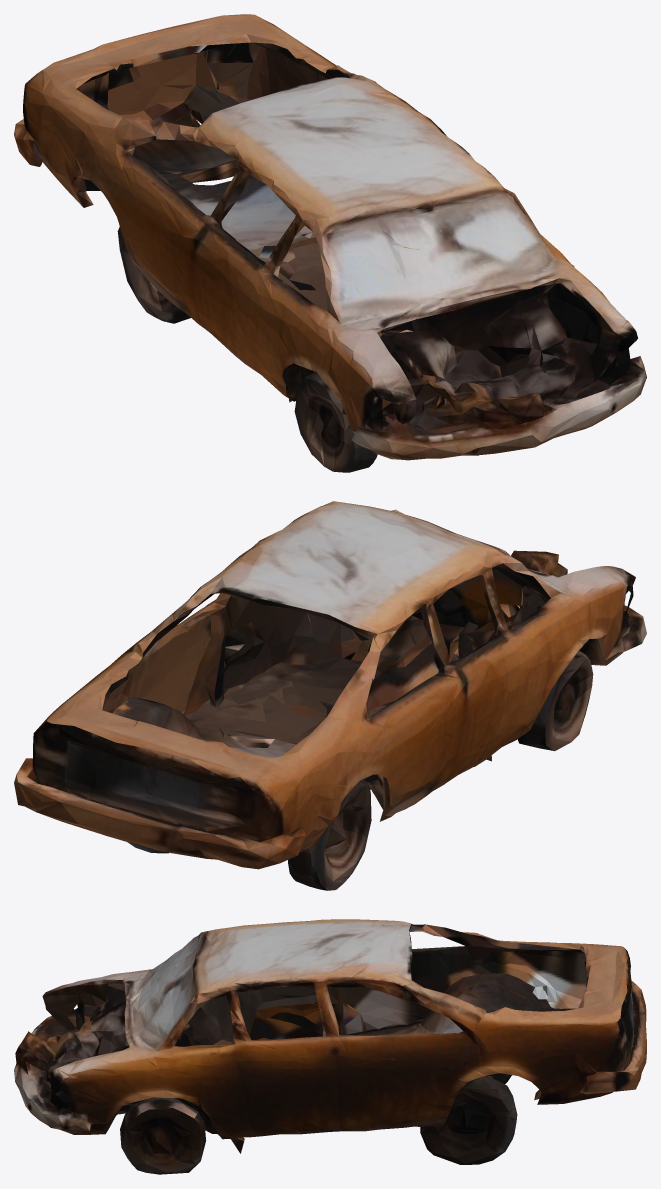
The model's file is bar_dead_car.glb.
3 views of the same model, one above another, from view 1: azimuth 30°, elevation 25°; view 2: azimuth 150°, elevation 25°; view 3: azimuth 270°, elevation 25° (orthographic). The views are drawn at different scales.
Visible parts, largest first — view 1: bar_dead_car_tex; view 2: bar_dead_car_tex; view 3: bar_dead_car_tex.
Boxes of the visible parts, x1,y1,x2,y2 form: bar_dead_car_tex: [14, 14, 646, 472]; bar_dead_car_tex: [14, 501, 646, 890]; bar_dead_car_tex: [14, 919, 646, 1174].
Bounding box in the file's own units: 1.5 × 1.17 × 3.6.
Materials: 1 (1 with a texture image).
